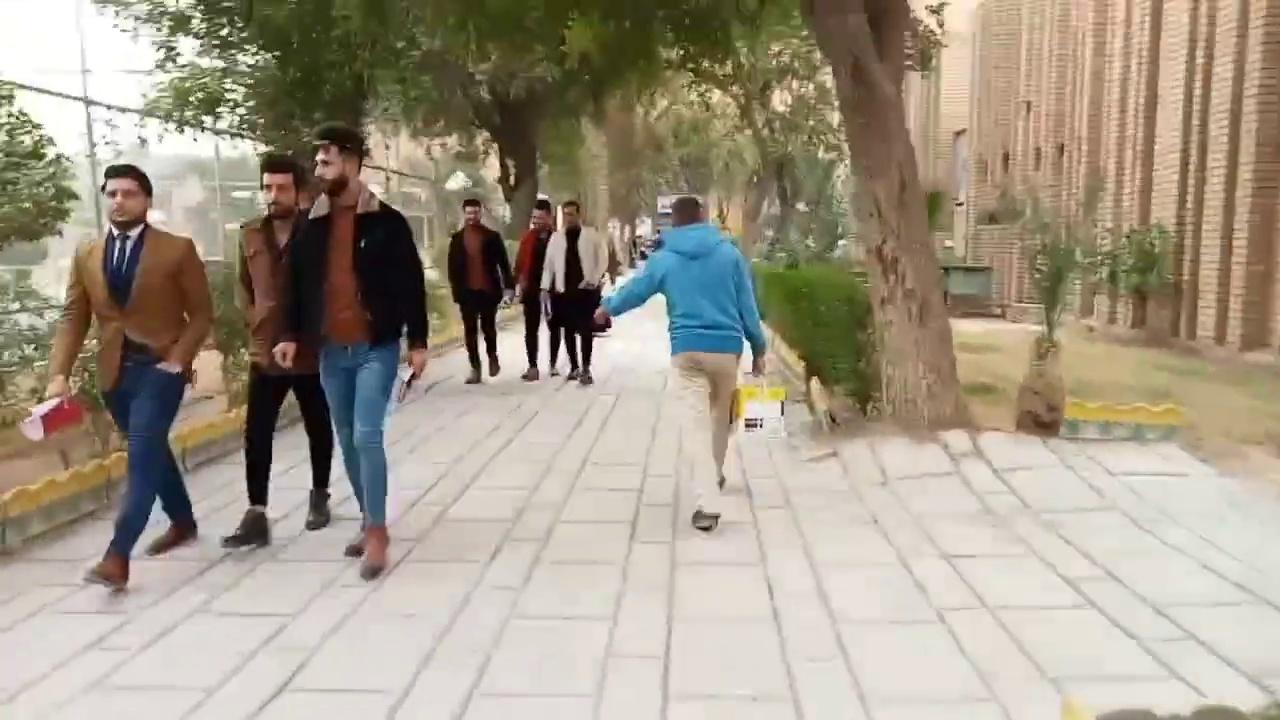person: (270, 120, 429, 581), (44, 163, 214, 588), (592, 194, 767, 529), (218, 154, 334, 549), (538, 200, 608, 384), (446, 198, 514, 383), (512, 199, 557, 381)
tree: (89, 0, 876, 427), (1002, 0, 1177, 429), (397, 3, 618, 243), (656, 9, 843, 261), (1237, 0, 1279, 351), (0, 78, 81, 254), (1117, 217, 1175, 329)
